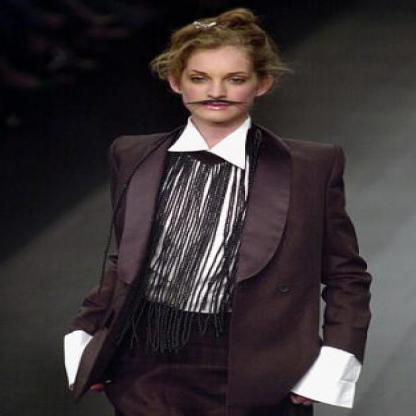face: (180, 34, 261, 122)
